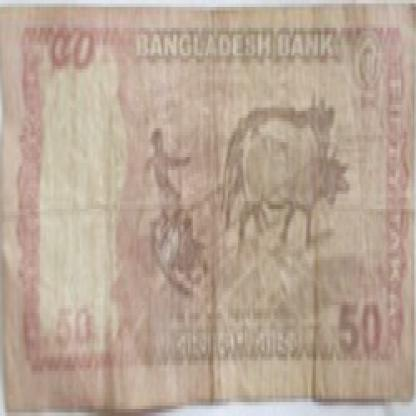Fifty taka: (331, 295, 388, 371), (47, 21, 107, 90)
